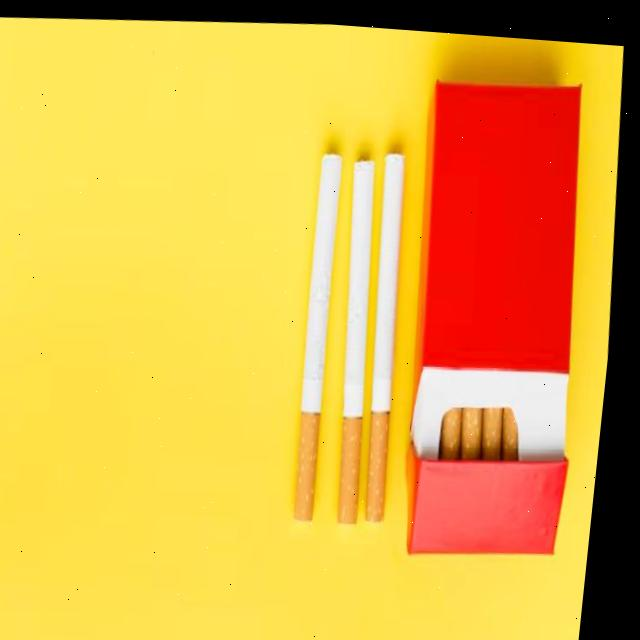cigarette: (294, 152, 340, 520), (365, 151, 405, 520), (337, 157, 375, 520), (459, 406, 484, 457), (438, 406, 460, 457), (482, 407, 501, 458), (501, 406, 518, 458)
